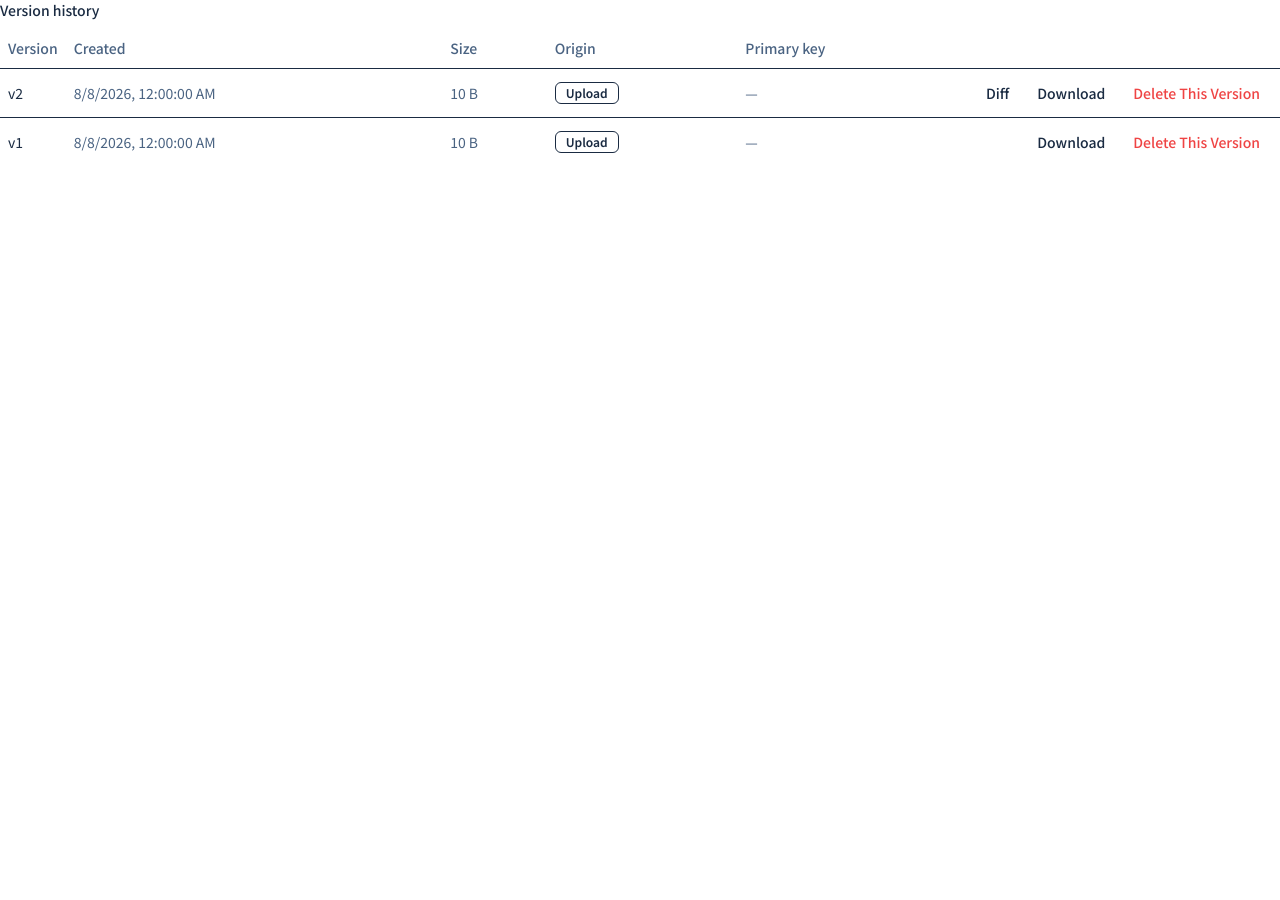
Test case: ResourceVersionHistory › the purge confirmation names what will happen (spec §9.6) › names where serving falls back to, purging the version being served
This screenshot has width=1280, height=900.
Click the 1st button "Delete This Version" at (1197,92), box [1121, 76, 1272, 108]
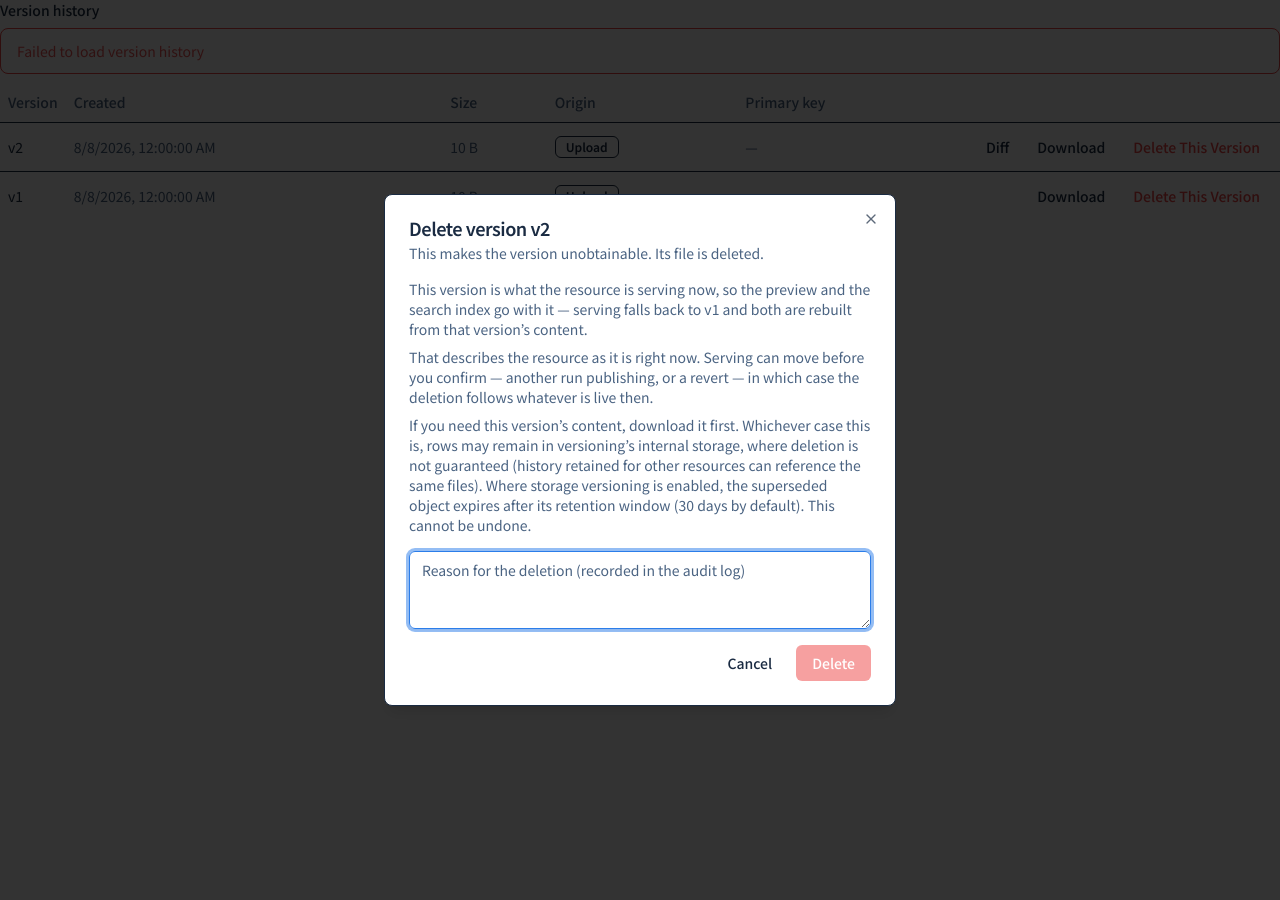
Expected: the dialog does not show "not what the resource is serving", [384, 194, 896, 706]
Expected: the dialog shows "serving falls back to v1", [409, 279, 870, 339]
